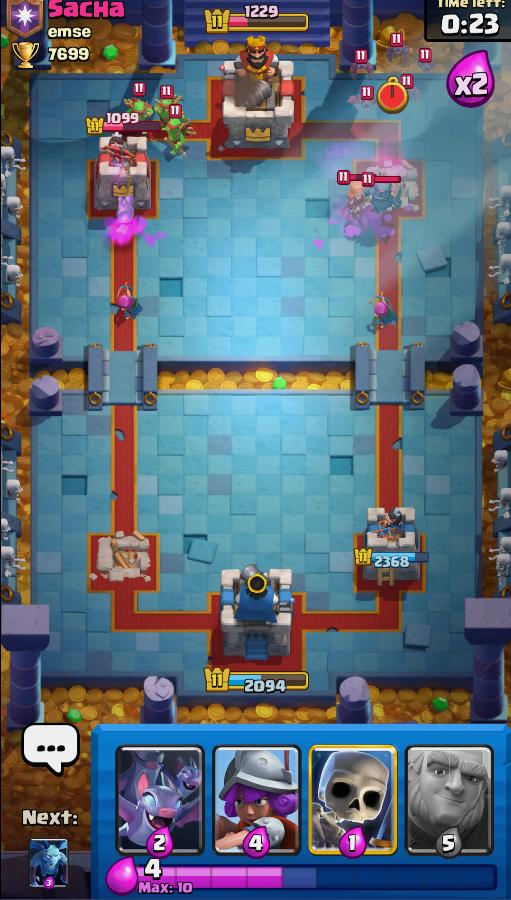archere: (96, 270, 159, 342), (351, 289, 405, 340)
bat: (343, 53, 379, 82), (344, 90, 382, 115), (382, 44, 414, 66), (394, 83, 425, 105), (412, 55, 440, 77)
gobelin_lances: (151, 85, 193, 127), (116, 94, 159, 129), (159, 118, 192, 163)
mini_PEKKA: (357, 174, 412, 217)
valkyrie: (334, 176, 377, 221)
